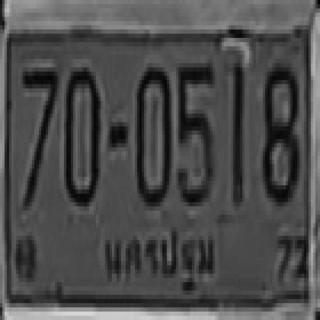N00: (135, 63, 169, 202), (64, 63, 98, 202)
N01: (231, 59, 242, 202)
N05: (176, 59, 212, 202)
N07: (20, 63, 57, 202)
N08: (260, 59, 297, 202)
P28: (100, 222, 216, 292)
